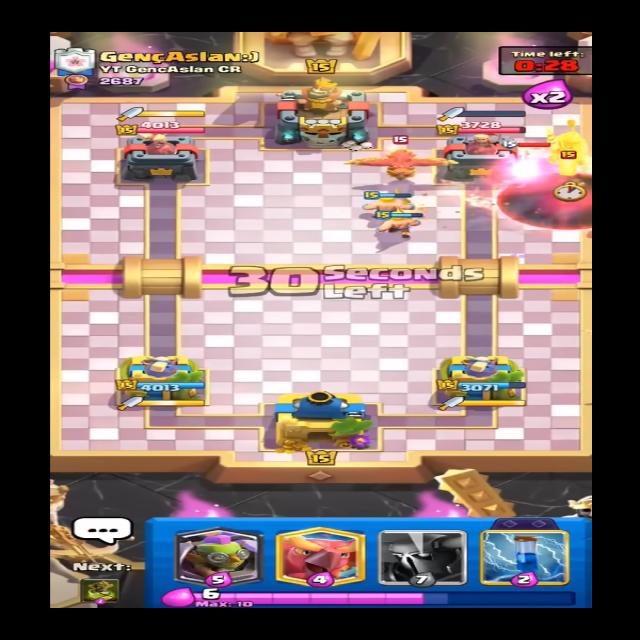phoenix: (344, 140, 452, 187)
prince: (534, 117, 614, 179)
